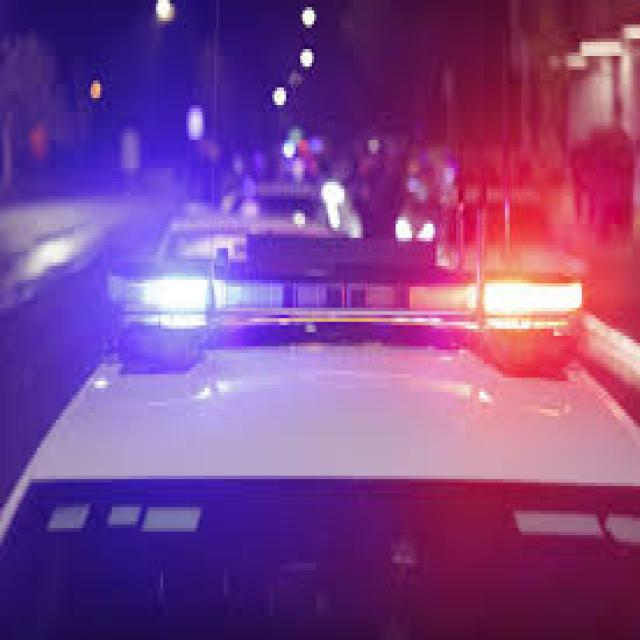emergency lights: (42, 224, 626, 418)
